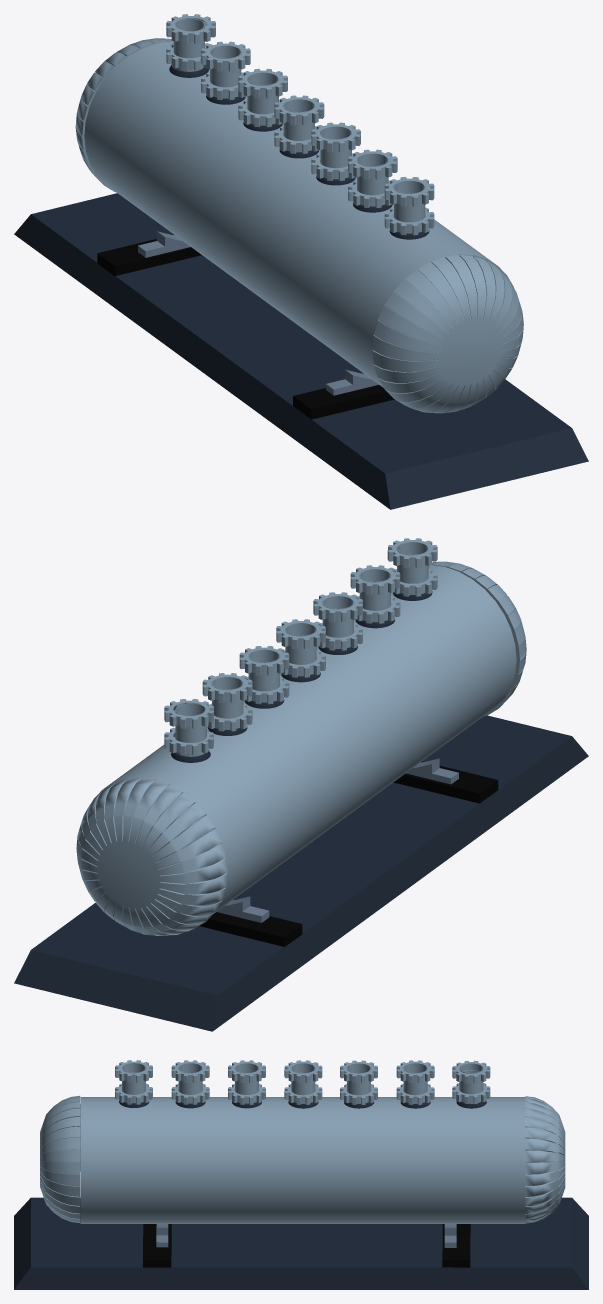
The model's file is 分集水器.glb.
3 renders of one model, top to bottom at view 1: azimuth 30°, elevation 25°; view 2: azimuth 150°, elevation 25°; view 3: azimuth 270°, elevation 25°, orthographic. The views are drawn at different scales.
Visible parts, largest first — view 1: 柱体139, 立方体118, 球体004, 立方体131, 球体003, 立方体122, Gear051, Gear046, Gear044, Gear038, Gear042, Gear036 (+11 smaller); view 2: 柱体139, 立方体118, 球体003, 球体004, 立方体122, 立方体131, Gear051, Gear036, Gear038, Gear042, Gear048, Gear044 (+12 smaller); view 3: 柱体139, 立方体118, 球体004, 球体003, 立方体131, 立方体122, Gear051, Gear036, Gear046, Gear042, Gear048, Gear044 (+15 smaller).
Part boxes in pixels (box(x1,y1,x2,y2)): 柱体139: box(84, 41, 513, 387); 立方体118: box(14, 193, 588, 509); 球体004: box(372, 255, 523, 413); 立方体131: box(293, 385, 394, 419); 球体003: box(75, 38, 173, 192); 立方体122: box(97, 234, 201, 276); Gear051: box(166, 14, 215, 44); Gear046: box(274, 95, 324, 125); Gear044: box(311, 122, 360, 152); Gear038: box(384, 177, 434, 206); Gear042: box(348, 149, 397, 179); Gear036: box(201, 41, 250, 71); 柱体139: box(92, 565, 516, 912); 立方体118: box(14, 715, 588, 1031); 球体003: box(76, 777, 227, 935); 球体004: box(432, 561, 526, 716); 立方体122: box(199, 912, 302, 946); 立方体131: box(393, 761, 498, 803); Gear051: box(164, 699, 213, 728); Gear036: box(202, 673, 252, 702); Gear038: box(387, 538, 437, 568); Gear042: box(350, 565, 400, 595); Gear048: box(239, 646, 289, 675); Gear044: box(313, 592, 362, 622); 柱体139: box(80, 1097, 525, 1223); 立方体118: box(14, 1197, 588, 1289); 球体004: box(40, 1095, 80, 1222); 球体003: box(525, 1096, 565, 1223); 立方体131: box(143, 1224, 171, 1267); 立方体122: box(442, 1224, 470, 1267); Gear051: box(452, 1060, 490, 1083); Gear036: box(396, 1060, 434, 1083); Gear046: box(284, 1060, 322, 1083); Gear042: box(171, 1060, 209, 1083); Gear048: box(340, 1060, 377, 1083); Gear044: box(228, 1060, 265, 1083).
Size of the model in its own units: 48.78 by 56.75 by 160.
